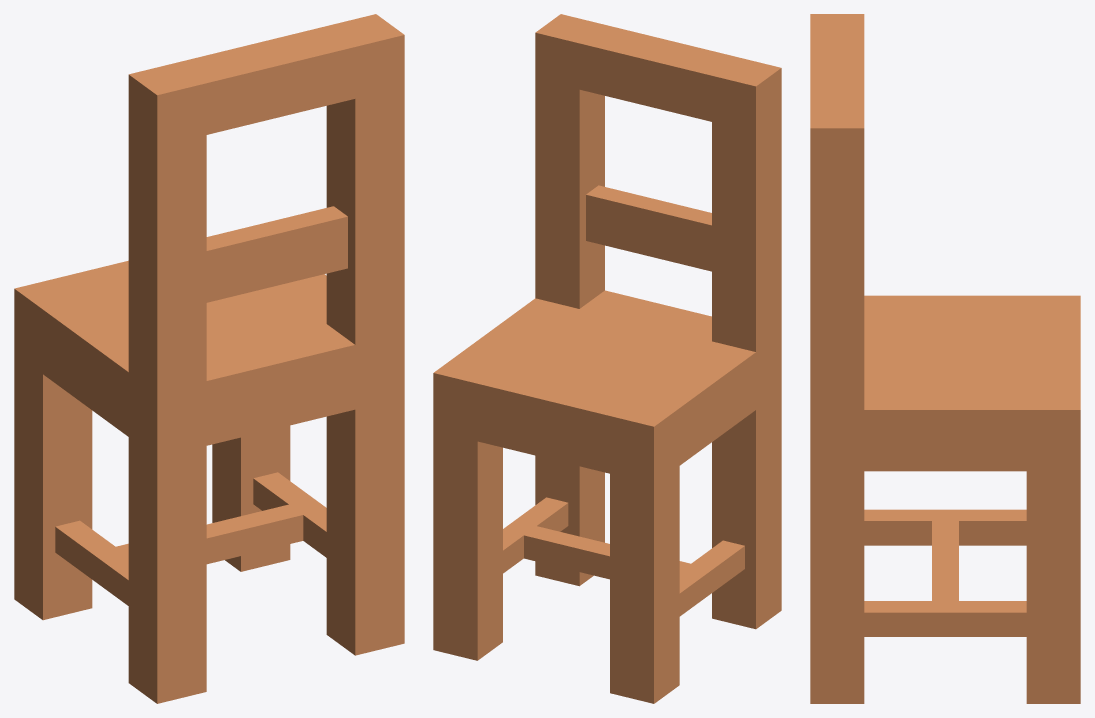
File: chair.dae
3 renders of one model, left to right at view 1: azimuth 30°, elevation 25°; view 2: azimuth 150°, elevation 25°; view 3: azimuth 270°, elevation 25°, orthographic. The views are drawn at different scales.
Parts seen in each view (by area): view 1: chair; view 2: chair; view 3: chair.
Boxes of the visible parts, box(x1,y1,x2,y2) form: chair: box(14, 14, 404, 703); chair: box(433, 14, 781, 703); chair: box(810, 14, 1080, 703).
Bounding box in the file's own units: 0.2 × 0.47 × 0.2.
